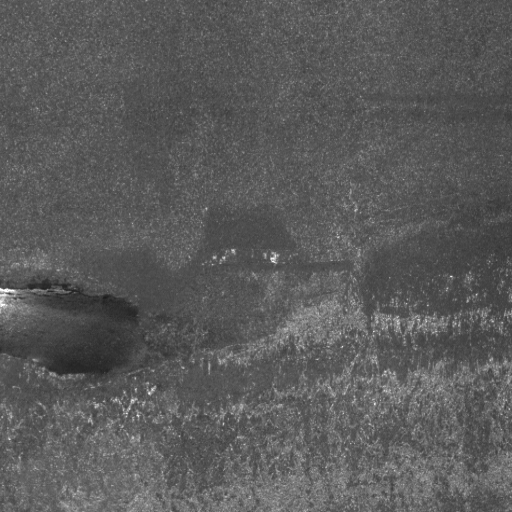aokeng: (1, 281, 142, 379)
